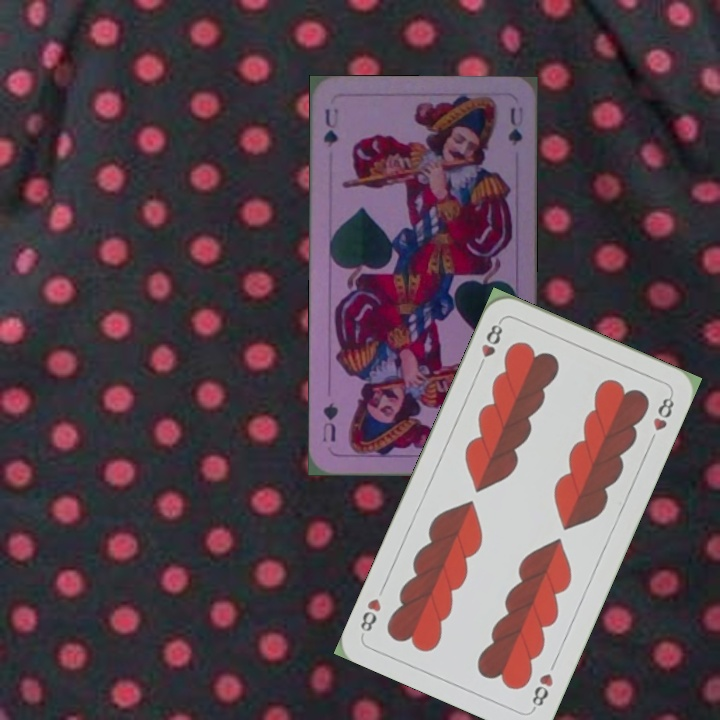GU: (319, 104, 341, 150)
H8: (474, 317, 506, 373), (527, 669, 556, 713)
